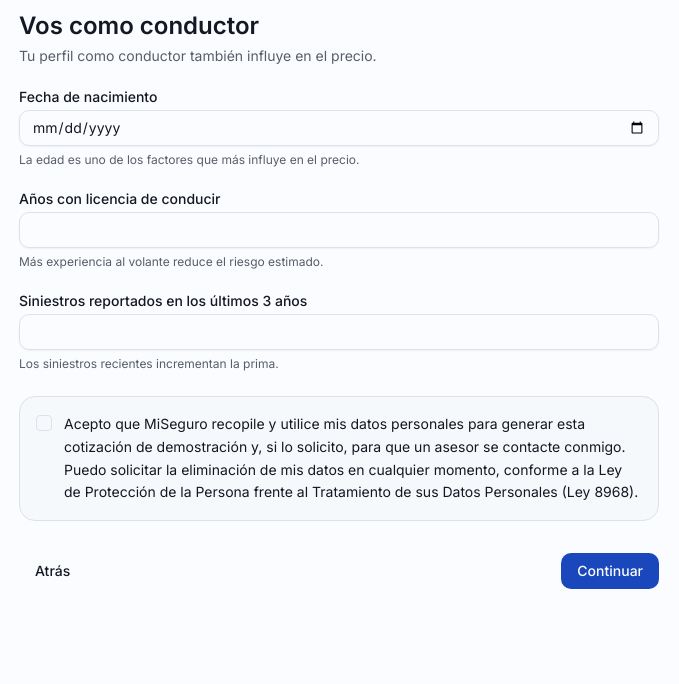
Scenario: DriverForm › shows validation errors when submitted empty
Click the button "Continuar".
click(610, 571)  # box 561,553 -> 659,589
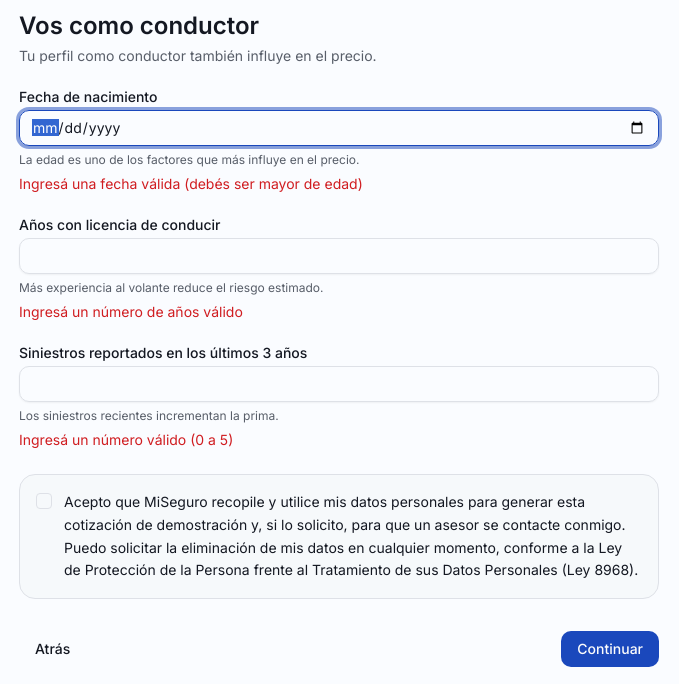
Now the text "Ingresá una fecha válida (debés ser mayor de edad)" is shown, box 19,175 -> 363,192
Now the text "Ingresá un número de años válido" is shown, box 19,303 -> 243,320
Now the text "Ingresá un número válido (0 a 5)" is shown, box 19,431 -> 233,448
